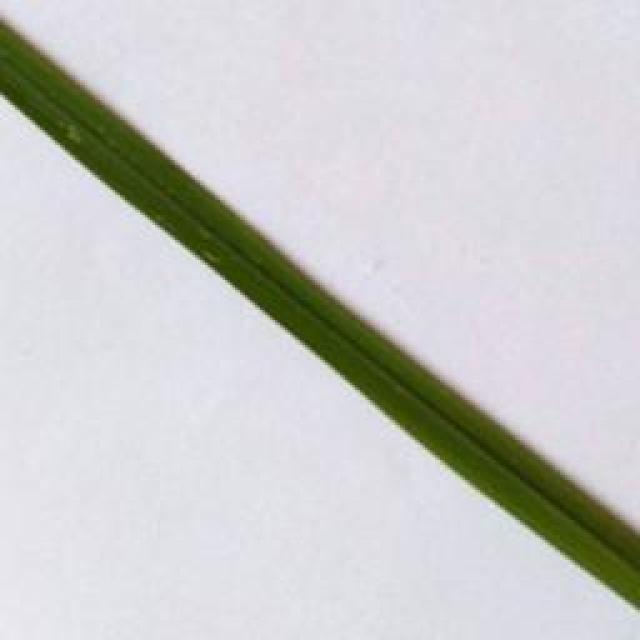Rice_Blast: (52, 114, 94, 150), (197, 223, 217, 246), (202, 248, 223, 268)
